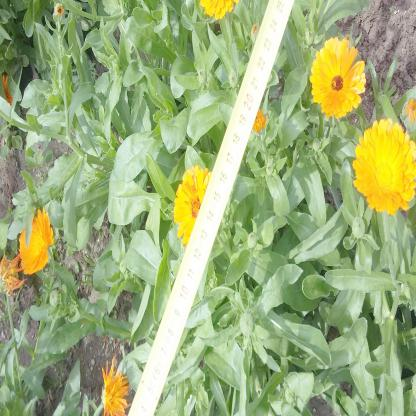marigold: (355, 120, 415, 210), (312, 39, 365, 116), (176, 171, 216, 243), (19, 209, 52, 273)
